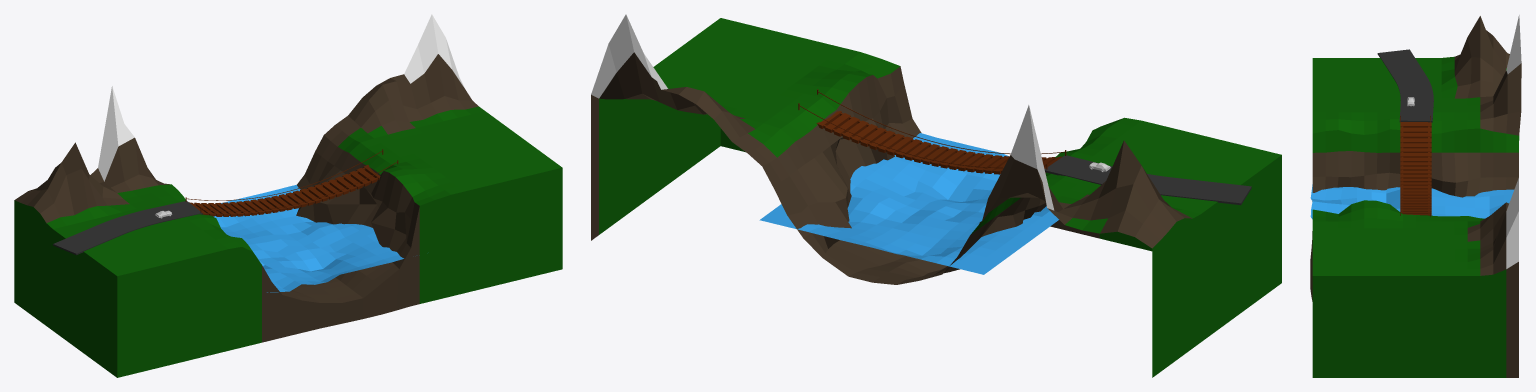
Rendered from Environment.fbx.
The picture shows the model from 3 angles, left to right: view 1: azimuth 30°, elevation 25°; view 2: azimuth 150°, elevation 25°; view 3: azimuth 270°, elevation 25°; orthographic projection. The views are drawn at different scales.
Parts seen in each view (by area): view 1: Plane001, Plane002, Bridge, Line001; view 2: Plane001, Plane002, Bridge, Line001; view 3: Plane001, Plane002, Bridge, Line001.
Boxes of the visible parts, x1,y1,x2,y2 form: Plane001: [14, 14, 562, 377]; Plane002: [213, 185, 403, 292]; Bridge: [189, 165, 380, 216]; Line001: [53, 201, 202, 255]; Plane001: [591, 14, 1281, 377]; Plane002: [759, 133, 1058, 274]; Bridge: [816, 111, 1062, 174]; Line001: [1044, 155, 1251, 205]; Plane001: [1310, 15, 1521, 377]; Plane002: [1310, 184, 1513, 219]; Bridge: [1400, 122, 1431, 215]; Line001: [1377, 49, 1433, 122].
Size of the model in its own units: 1295 by 518 by 512.
